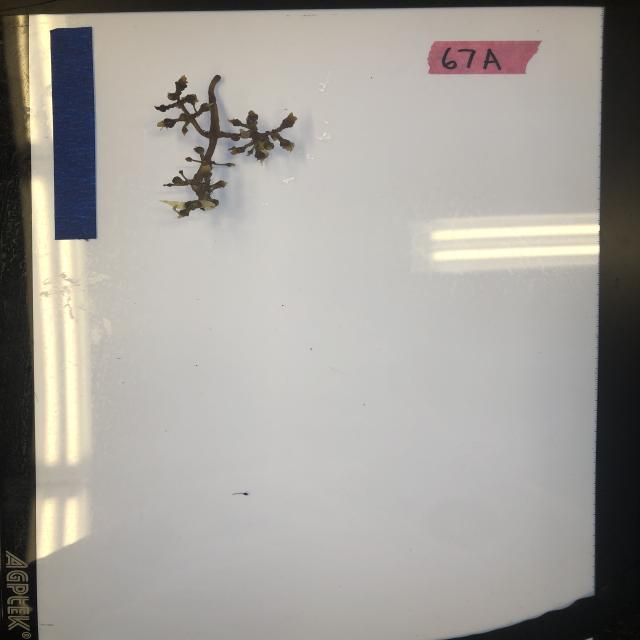index: (426, 40, 544, 74)
measure_label: (49, 26, 99, 240)
rachis_cluster: (154, 72, 298, 220)
